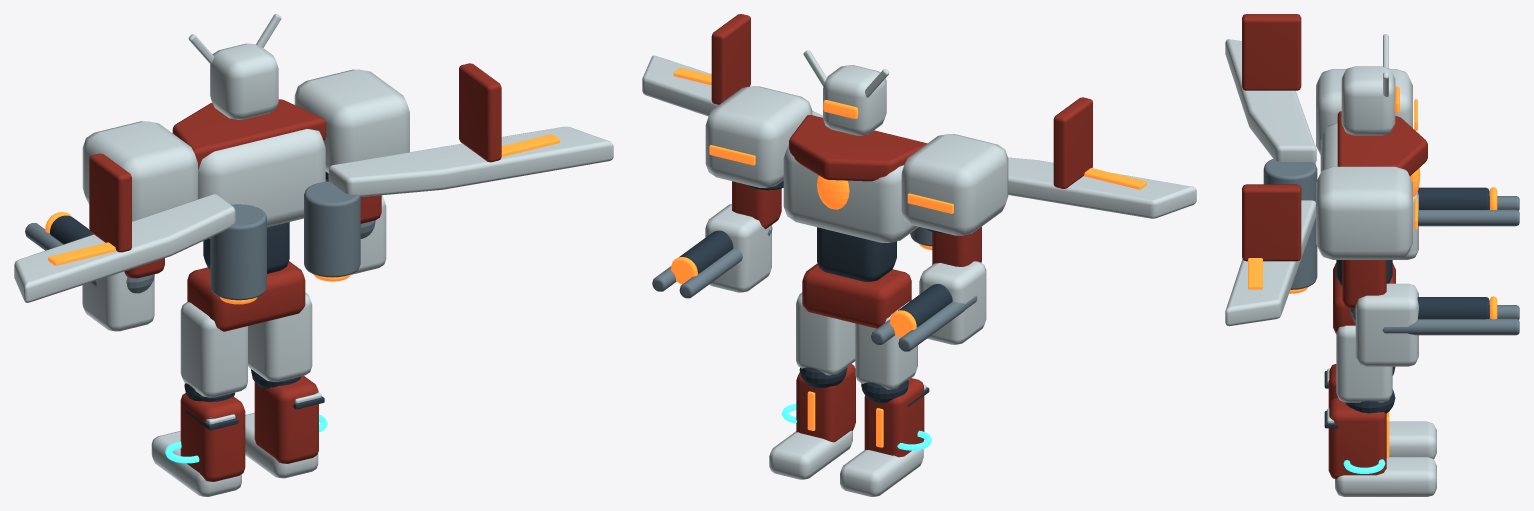
File: CrimsonFrame.fbx
3 views of the same model, side by side, from view 1: azimuth 30°, elevation 25°; view 2: azimuth 150°, elevation 25°; view 3: azimuth 270°, elevation 25° (orthographic). The views are drawn at different scales.
Visible parts, largest first — view 1: Flight wing.003, Flight wing.002, Chest armor.001, Pauldron.003, Pauldron.002, Thigh armor.002, Back thruster.003, Back thruster.002, Chest collar.001, Shin armor.003, Helmet.001, Shin armor.002 (+12 smaller); view 2: Pauldron.002, Pauldron.003, Chest armor.001, Flight wing.002, Chest collar.001, Pelvis armor.001, Forearm weapon.003, Forearm weapon.002, Thigh armor.003, Helmet.001, Abdominal reactor.001, Shin armor.002 (+17 smaller); view 3: Pauldron.003, Flight wing.002, Wing stabilizer.002, Forearm weapon.003, Wing stabilizer.003, Flight wing.003, Shin armor.003, Helmet.001, Chest collar.001, Flight boot.003, Thigh armor.003, Pauldron.002 (+16 smaller).
Part boxes in pixels (<box>): Flight wing.003: <box>328,126,613,197</box>; Flight wing.002: <box>14,194,235,302</box>; Chest armor.001: <box>198,129,325,238</box>; Pauldron.003: <box>294,69,409,173</box>; Pauldron.002: <box>82,121,197,221</box>; Thigh armor.002: <box>180,301,247,397</box>; Back thruster.003: <box>304,181,360,277</box>; Back thruster.002: <box>210,204,266,300</box>; Chest collar.001: <box>172,99,326,169</box>; Shin armor.003: <box>254,376,318,463</box>; Helmet.001: <box>210,43,278,119</box>; Shin armor.002: <box>180,393,245,481</box>; Pauldron.002: <box>901,134,1008,235</box>; Pauldron.003: <box>705,86,812,187</box>; Chest armor.001: <box>783,145,918,242</box>; Flight wing.002: <box>1008,157,1196,218</box>; Chest collar.001: <box>789,115,927,181</box>; Pelvis armor.001: <box>802,263,911,328</box>; Forearm weapon.003: <box>705,204,771,292</box>; Forearm weapon.002: <box>919,261,986,344</box>; Thigh armor.003: <box>796,292,855,375</box>; Helmet.001: <box>823,65,886,135</box>; Abdominal reactor.001: <box>817,227,896,281</box>; Shin armor.002: <box>864,378,924,457</box>; Pauldron.003: <box>1316,166,1412,259</box>; Flight wing.002: <box>1225,39,1316,163</box>; Wing stabilizer.002: <box>1242,14,1301,90</box>; Forearm weapon.003: <box>1355,283,1418,366</box>; Wing stabilizer.003: <box>1242,184,1301,261</box>; Flight wing.003: <box>1225,200,1315,326</box>; Shin armor.003: <box>1328,397,1386,479</box>; Helmet.001: <box>1341,66,1395,135</box>; Chest collar.001: <box>1337,111,1427,175</box>; Flight boot.003: <box>1335,457,1436,496</box>; Thigh armor.003: <box>1336,325,1392,402</box>; Pauldron.002: <box>1316,69,1412,155</box>.
Size of the model in its own units: 478 by 344 by 219.
